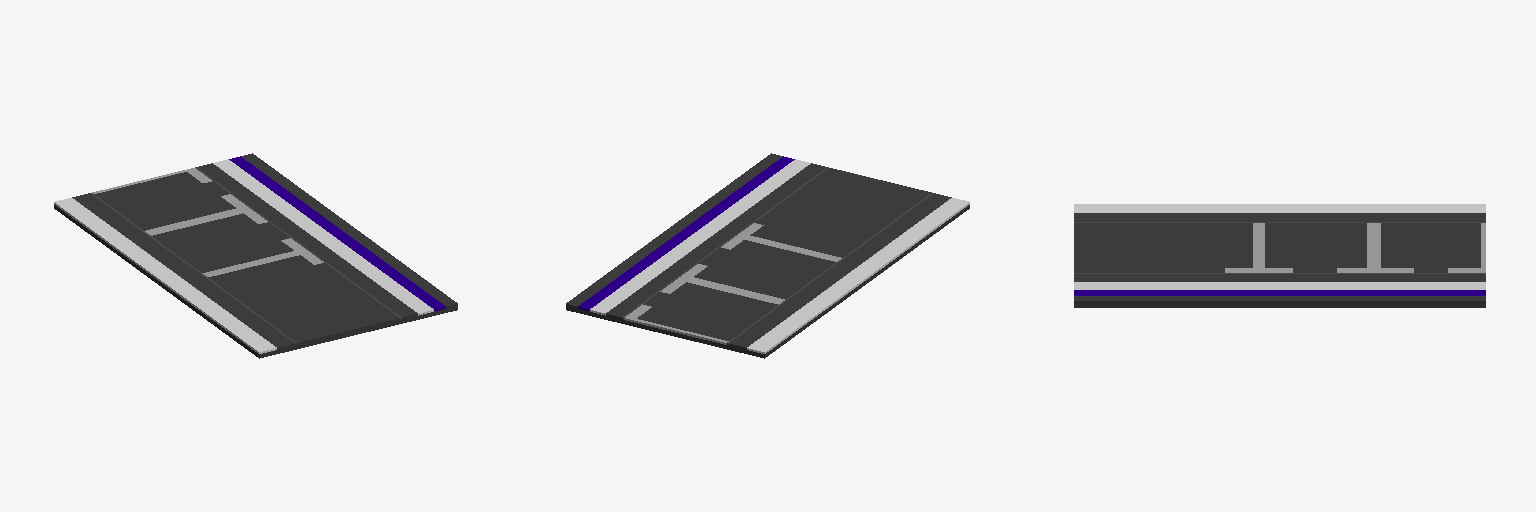
3 renders of one model, left to right at view 1: azimuth 30°, elevation 25°; view 2: azimuth 150°, elevation 25°; view 3: azimuth 270°, elevation 25°, orthographic.
Parts seen in each view (by area): view 1: object 1; view 2: object 1; view 3: object 1.
Part boxes in pixels (bbox=[...]): object 1: bbox=[54, 153, 457, 358]; object 1: bbox=[566, 153, 969, 358]; object 1: bbox=[1074, 204, 1485, 307].
Bounding box in the file's own units: 9.9 × 0.3 × 17.7.
Materials: 1 (1 with a texture image).